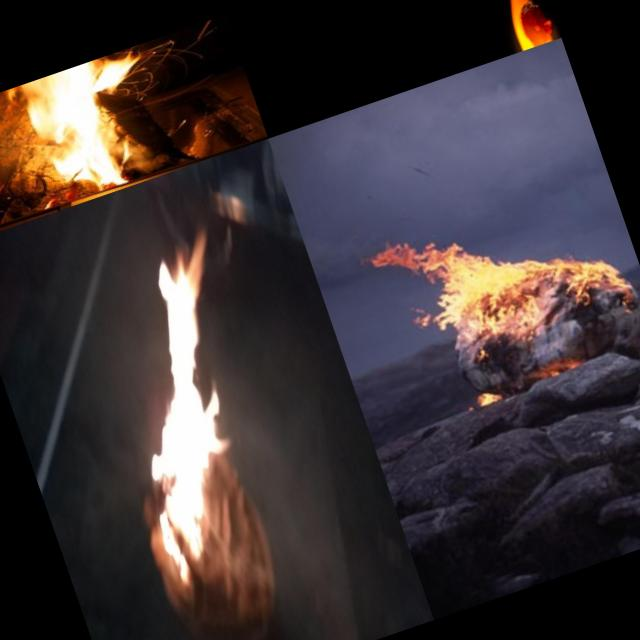fire: (65, 211, 312, 583), (368, 170, 638, 372), (0, 43, 182, 233), (465, 0, 561, 55)
